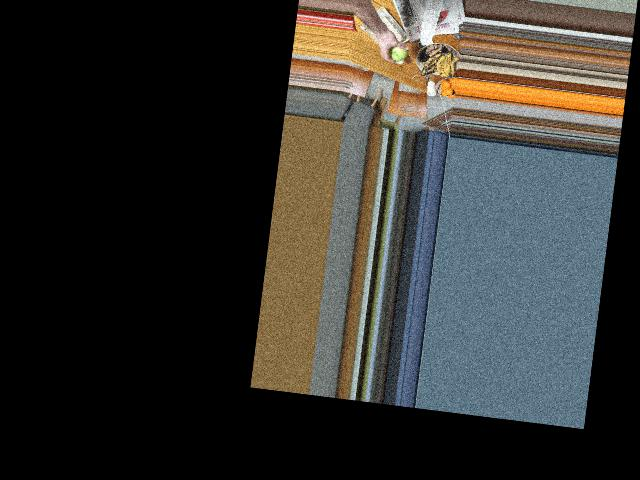apple: (384, 39, 409, 62)
